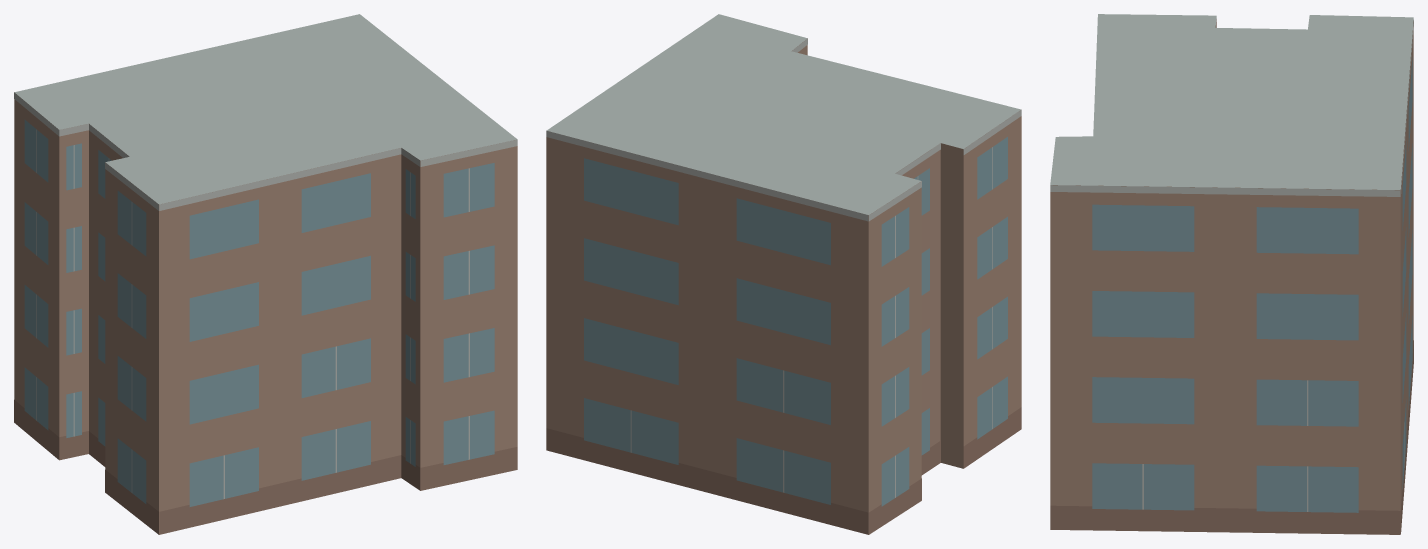
Rendered from survey-upis-32925913.glb.
The picture shows the model from 3 angles, left to right: view 1: azimuth 30°, elevation 25°; view 2: azimuth 150°, elevation 25°; view 3: azimuth 270°, elevation 25°; orthographic projection. The views are drawn at different scales.
Visible parts, largest first — view 1: survey-upis-32925913.tmp; view 2: survey-upis-32925913.tmp; view 3: survey-upis-32925913.tmp.
Part boxes in pixels (left/top/right/bottom): survey-upis-32925913.tmp: left=14, top=14, right=517, bottom=534; survey-upis-32925913.tmp: left=546, top=14, right=1021, bottom=534; survey-upis-32925913.tmp: left=1050, top=14, right=1413, bottom=534.
Bounding box in the file's own units: 13.38 × 12.2 × 11.67.
